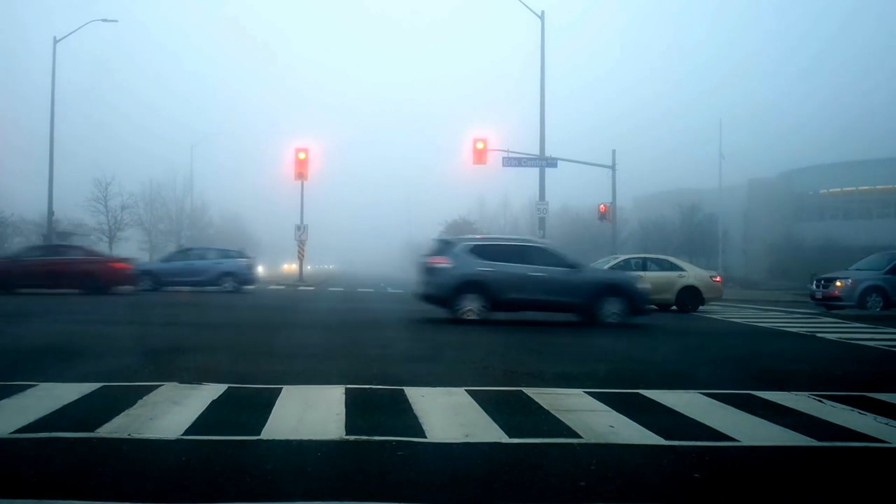car: (414, 233, 654, 325), (553, 252, 725, 316), (1, 242, 140, 296), (132, 245, 261, 294), (809, 247, 896, 317)
